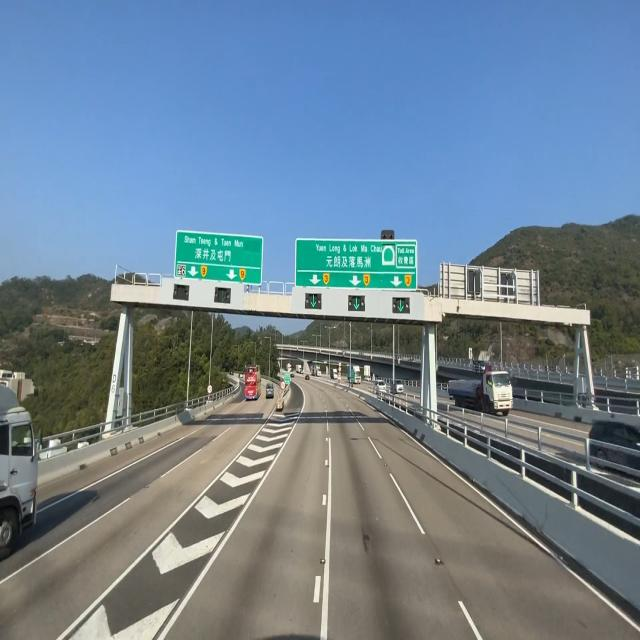Car: (243, 360, 262, 407)
